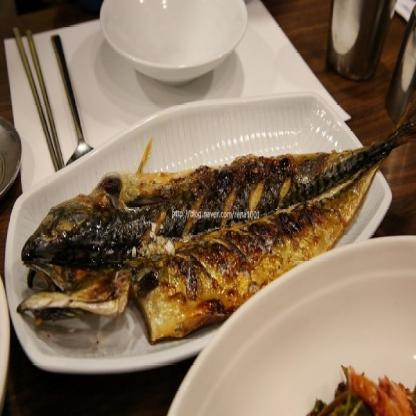Peixe: (9, 107, 412, 353)
